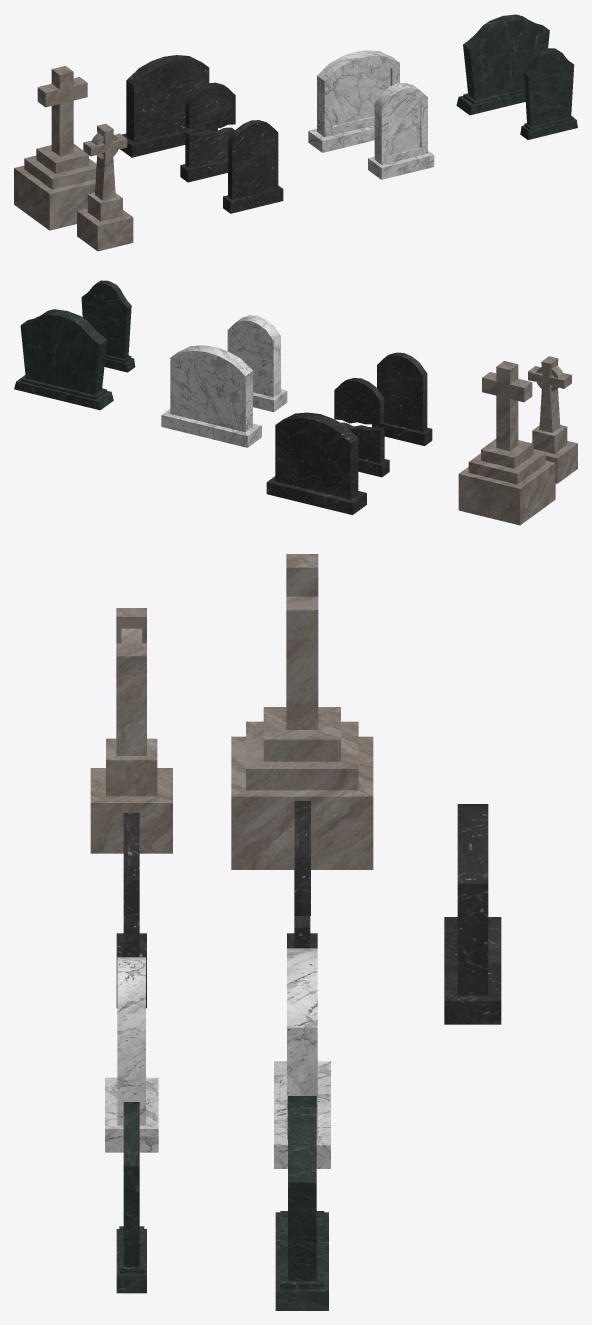
Rendered from tombstones_low_poly.glb.
The picture shows the model from 3 angles, top to bottom: view 1: azimuth 30°, elevation 25°; view 2: azimuth 150°, elevation 25°; view 3: azimuth 270°, elevation 25°; orthographic projection. The views are drawn at different scales.
Parts seen in each view (by area): view 1: Object_3, Object_4, Object_2, Object_5; view 2: Object_3, Object_4, Object_2, Object_5; view 3: Object_4, Object_3, Object_2, Object_5.
Boxes of the visible parts, bbox=[...] form: Object_3: bbox=[120, 55, 283, 213]; Object_4: bbox=[14, 66, 133, 251]; Object_2: bbox=[308, 50, 434, 179]; Object_5: bbox=[456, 14, 577, 139]; Object_3: bbox=[266, 352, 432, 514]; Object_4: bbox=[458, 356, 577, 525]; Object_2: bbox=[161, 315, 287, 447]; Object_5: bbox=[14, 280, 135, 410]; Object_4: bbox=[90, 554, 373, 869]; Object_3: bbox=[116, 801, 501, 1024]; Object_2: bbox=[105, 948, 330, 1168]; Object_5: bbox=[116, 1096, 328, 1310].
Size of the model in its own units: 7 by 1.8 by 2.41.
Materials: 4 (4 with a texture image).
